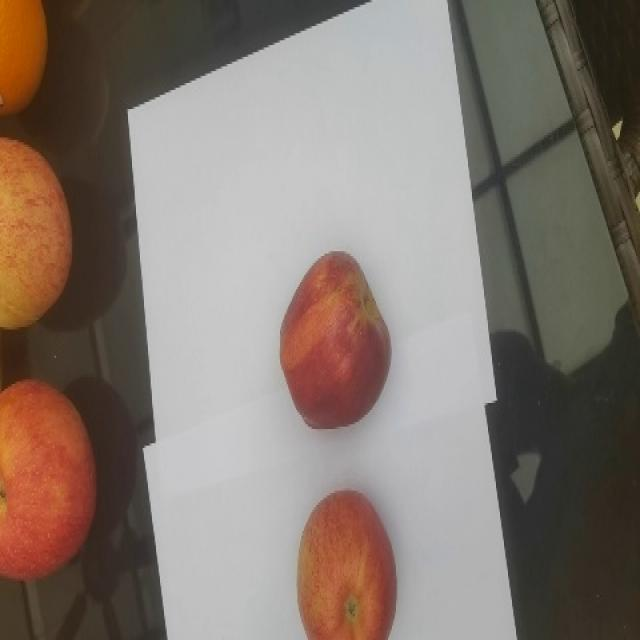Apple: (278, 249, 391, 429), (0, 377, 97, 582), (296, 488, 397, 639), (0, 135, 73, 330)
Orange: (0, 0, 48, 117)
